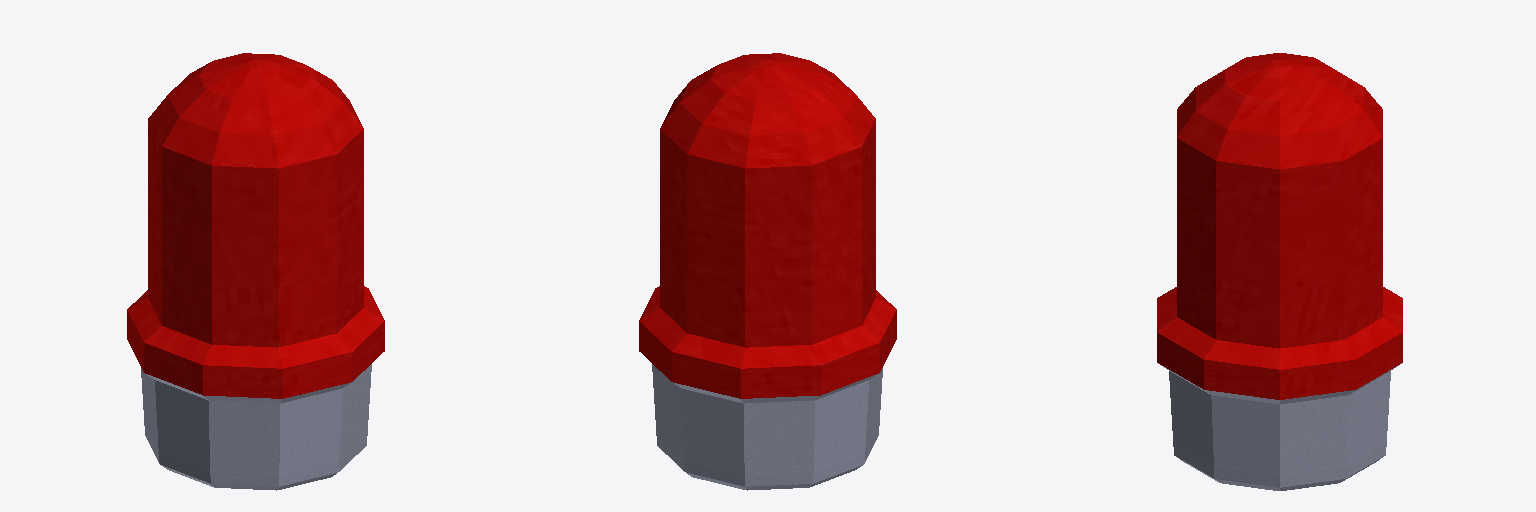
3 views of the same model, side by side, from view 1: azimuth 30°, elevation 25°; view 2: azimuth 150°, elevation 25°; view 3: azimuth 270°, elevation 25° (orthographic).
Visible parts, largest first — view 1: bjq_red_x_1; view 2: bjq_red_x_1; view 3: bjq_red_x_1.
Boxes of the visible parts, x1=… form: bjq_red_x_1: x1=127, y1=53, x2=384, y2=490; bjq_red_x_1: x1=639, y1=53, x2=896, y2=490; bjq_red_x_1: x1=1157, y1=53, x2=1402, y2=490.
Bounding box in the file's own units: 5.39 × 8.83 × 5.12.
Materials: 4 (3 with a texture image).